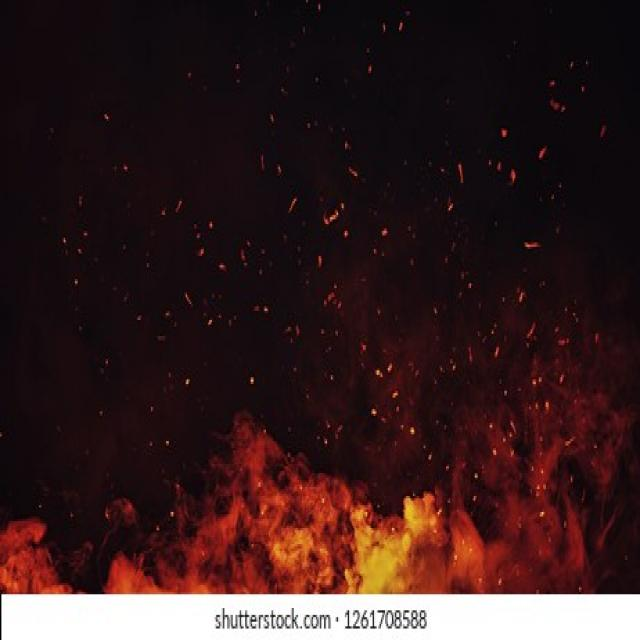fire: (94, 423, 640, 640)
